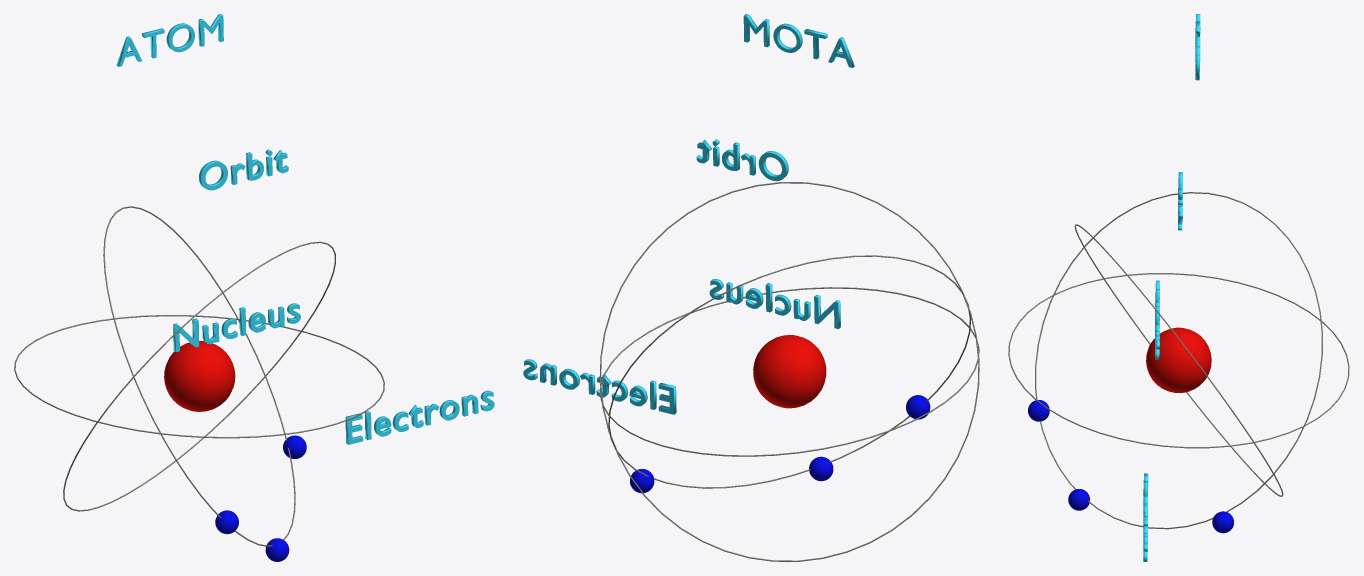
The model's file is DNA.fbx.
The picture shows the model from 3 angles, left to right: view 1: azimuth 30°, elevation 25°; view 2: azimuth 150°, elevation 25°; view 3: azimuth 270°, elevation 25°; orthographic projection. The views are drawn at different scales.
Parts seen in each view (by area): view 1: core, Text.002, Text.001, electron shell3, Text.003, electron shell, electron shell2, Text; view 2: core, Text.002, electron shell2, Text.001, electron shell, electron shell3, Text.003, Text; view 3: core, electron shell, electron shell3, electron shell2, Text.002.
Boxes of the visible parts, bbox=[...] form: core: bbox=[164, 340, 235, 411]; Text.002: bbox=[345, 390, 494, 444]; Text.001: bbox=[173, 303, 300, 352]; electron shell3: bbox=[14, 315, 384, 438]; Text.003: bbox=[116, 14, 223, 66]; electron shell: bbox=[103, 206, 295, 546]; electron shell2: bbox=[63, 241, 335, 511]; Text: bbox=[199, 149, 288, 190]; core: bbox=[753, 335, 826, 408]; Text.002: bbox=[523, 359, 676, 414]; electron shell2: bbox=[599, 182, 979, 561]; Text.001: bbox=[709, 279, 840, 328]; electron shell: bbox=[608, 255, 970, 488]; electron shell3: bbox=[599, 287, 979, 456]; Text.003: bbox=[743, 14, 854, 67]; Text: bbox=[696, 139, 788, 181]; core: bbox=[1146, 327, 1211, 392]; electron shell: bbox=[1035, 192, 1322, 529]; electron shell3: bbox=[1008, 273, 1349, 448]; electron shell2: bbox=[1074, 224, 1283, 496]; Text.002: bbox=[1143, 473, 1148, 561].
Size of the model in its own units: 712 by 776 by 524.
